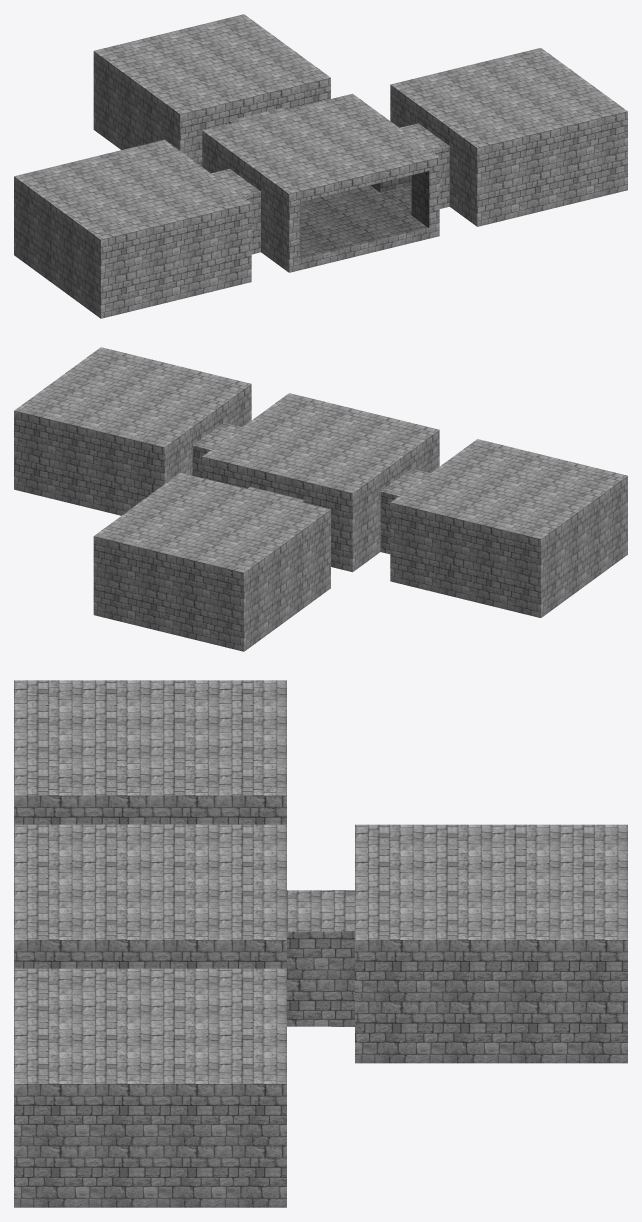
The model's file is spaceCompound.obj.
3 renders of one model, top to bottom at view 1: azimuth 30°, elevation 25°; view 2: azimuth 150°, elevation 25°; view 3: azimuth 270°, elevation 25°, orthographic. The views are drawn at different scales.
Visible parts, largest first — view 1: Room2, Room3, MainRoom, Room1, Window, DoorWay1, DoorWay3; view 2: Room1, Room2, Room3, MainRoom, DoorWay3, DoorWay1; view 3: Room1, Room3, MainRoom, Room2, DoorWay2.
Part boxes in pixels (bbox=[...]): Room2: bbox=[14, 139, 251, 318]; Room3: bbox=[390, 48, 627, 226]; MainRoom: bbox=[202, 93, 439, 272]; Room1: bbox=[93, 14, 330, 166]; Window: bbox=[300, 171, 428, 258]; DoorWay1: bbox=[380, 123, 449, 214]; DoorWay3: bbox=[211, 169, 260, 254]; Room1: bbox=[93, 472, 330, 651]; Room2: bbox=[390, 439, 627, 617]; Room3: bbox=[14, 347, 251, 515]; MainRoom: bbox=[202, 393, 439, 572]; DoorWay3: bbox=[380, 468, 430, 554]; DoorWay1: bbox=[192, 422, 242, 477]; Room1: bbox=[355, 824, 627, 1063]; Room3: bbox=[14, 968, 286, 1207]; MainRoom: bbox=[14, 824, 286, 968]; Room2: bbox=[14, 680, 286, 824]; DoorWay2: bbox=[287, 890, 354, 1026].
Bounding box in the file's own units: 70 × 10 × 45.
Materials: 2 (1 with a texture image).
